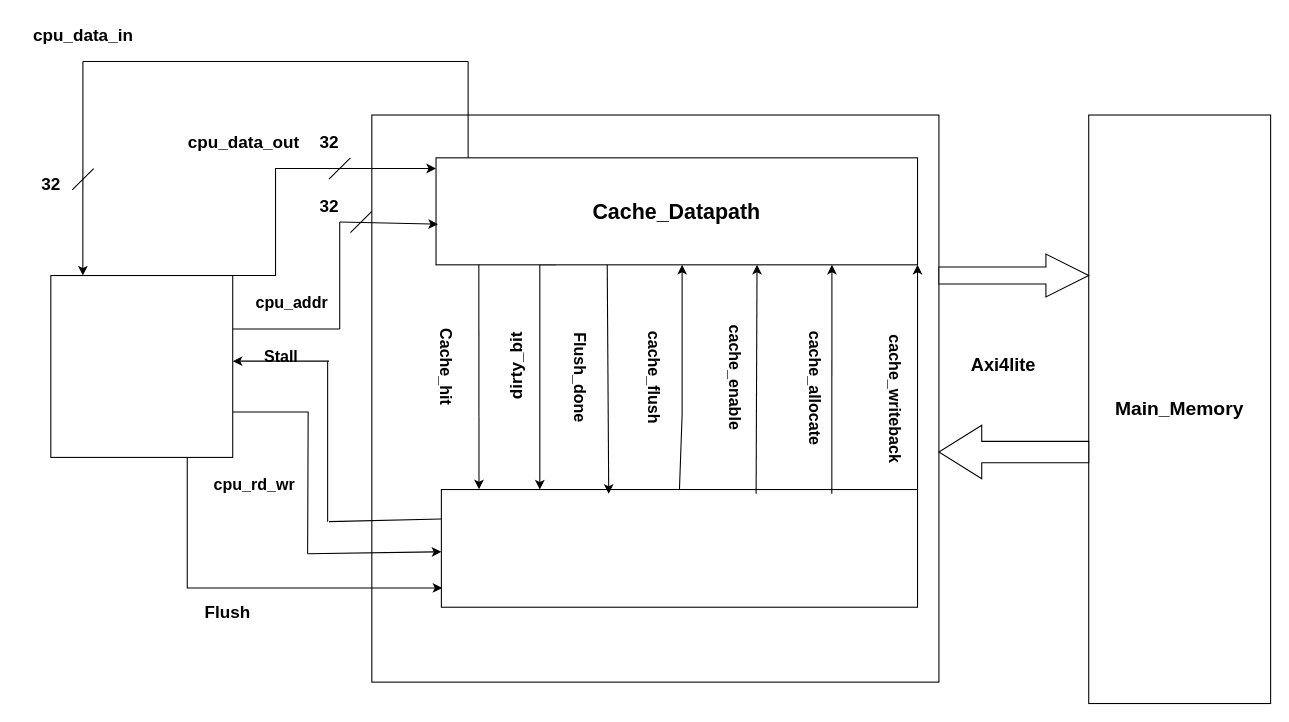
This 1289x722 diagram has some shape labels left out. The shapes that lost their labels are listed below. From the top down, each one's centre as x and y in pixels, then its label:
At [141,365]: "CPU".
At [679,547]: "Cache_Controller".
